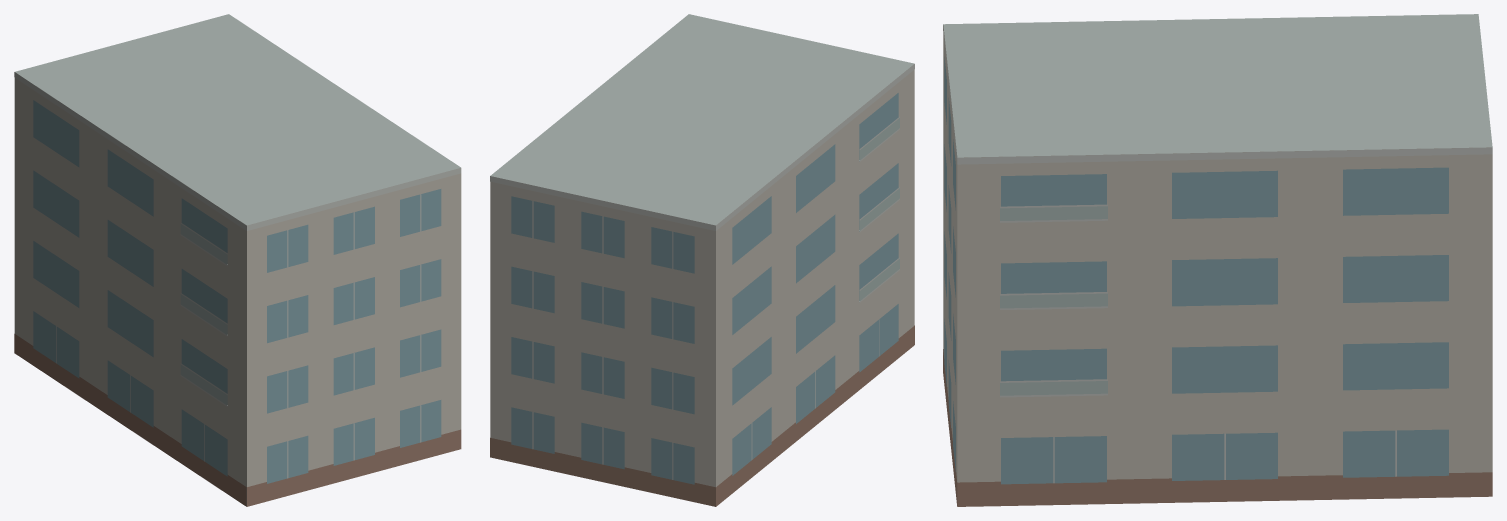
Rendered from residential-cd51c299-12a1-4d66-af68-8f9a74f50218.glb.
3 renders of one model, left to right at view 1: azimuth 30°, elevation 25°; view 2: azimuth 150°, elevation 25°; view 3: azimuth 270°, elevation 25°, orthographic. The views are drawn at different scales.
Parts seen in each view (by area): view 1: residential-cd51c299-12a1-4d66-af68-8f9a74f50218.tmp; view 2: residential-cd51c299-12a1-4d66-af68-8f9a74f50218.tmp; view 3: residential-cd51c299-12a1-4d66-af68-8f9a74f50218.tmp.
Boxes of the visible parts, x1=… form: residential-cd51c299-12a1-4d66-af68-8f9a74f50218.tmp: x1=14, y1=14, x2=461, y2=506; residential-cd51c299-12a1-4d66-af68-8f9a74f50218.tmp: x1=490, y1=14, x2=914, y2=506; residential-cd51c299-12a1-4d66-af68-8f9a74f50218.tmp: x1=943, y1=14, x2=1492, y2=506.
Size of the model in its own units: 10.76 by 12.2 by 17.4.
